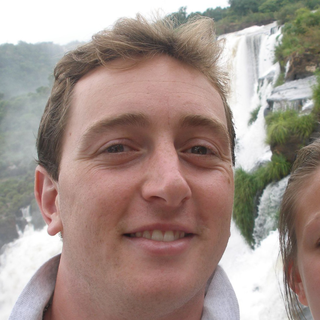eye: (90, 138, 141, 163), (177, 139, 223, 164)
